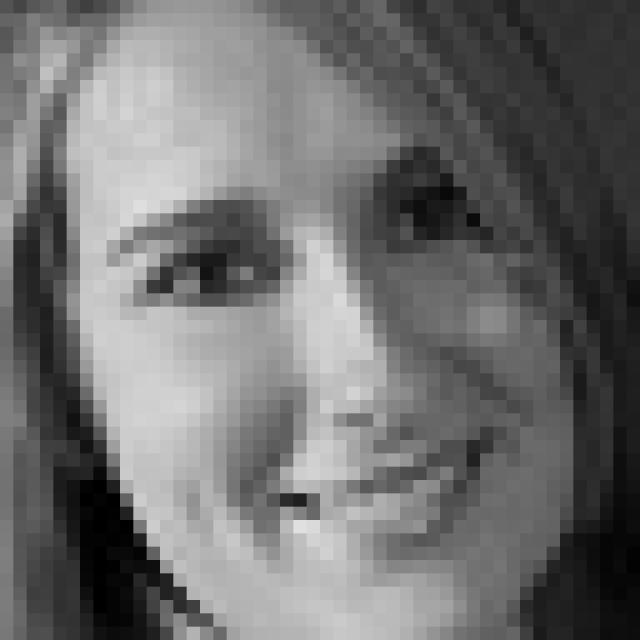happy: (101, 147, 528, 560)
